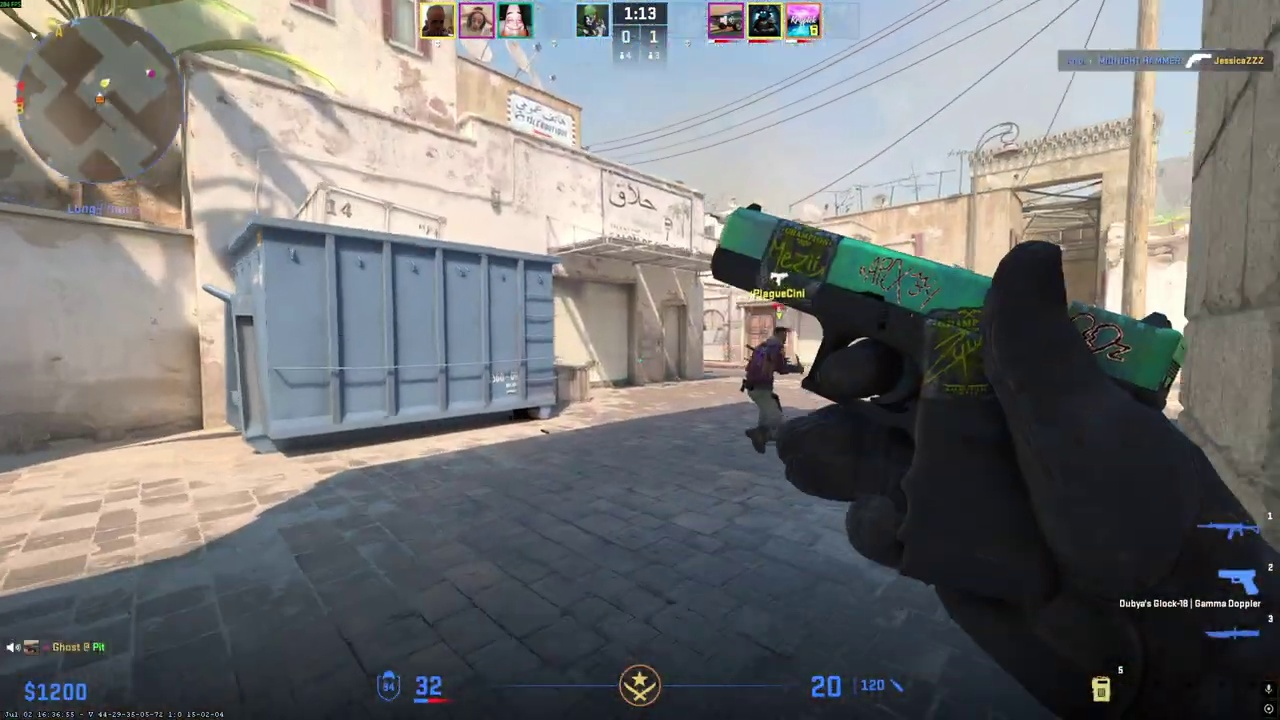Terrorist: (745, 326, 791, 454)
